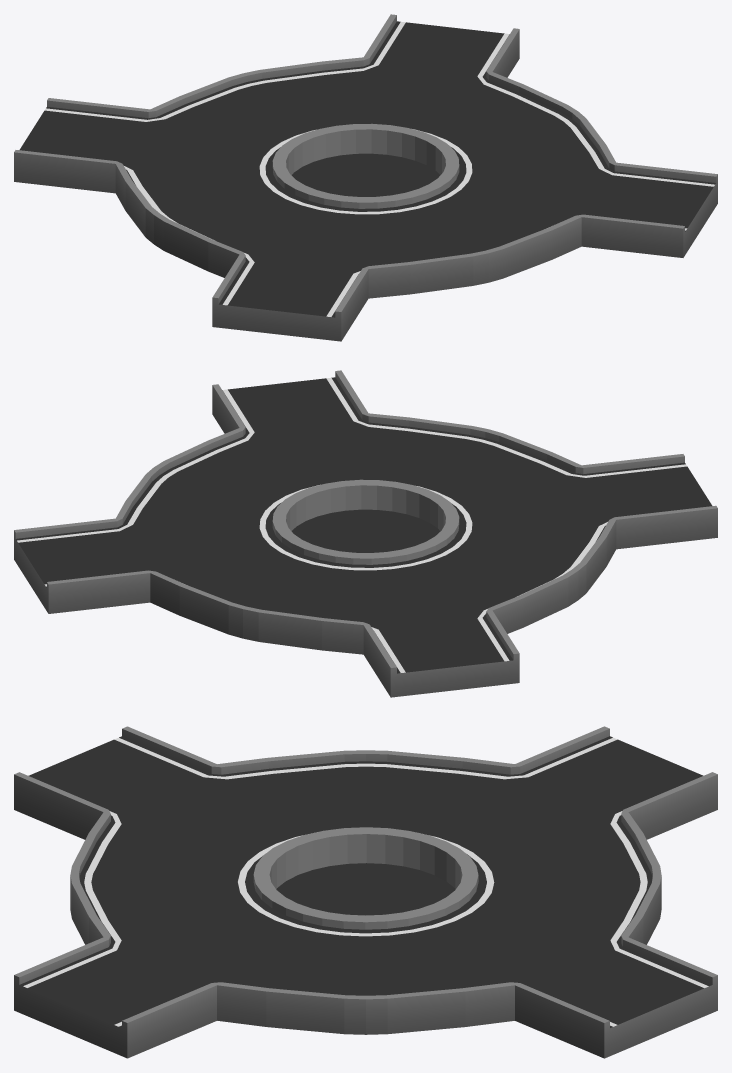
File: Roundabout_Road.fbx
3 views of the same model, one above another, from view 1: azimuth 30°, elevation 25°; view 2: azimuth 150°, elevation 25°; view 3: azimuth 270°, elevation 25° (orthographic). The views are drawn at different scales.
Parts seen in each view (by area): view 1: Roundabout_Road; view 2: Roundabout_Road; view 3: Roundabout_Road.
Part boxes in pixels (<box>): Roundabout_Road: <box>14,14,717,341</box>; Roundabout_Road: <box>14,370,717,697</box>; Roundabout_Road: <box>14,726,717,1058</box>.
Bounding box in the file's own units: 870 × 48.52 × 872.
